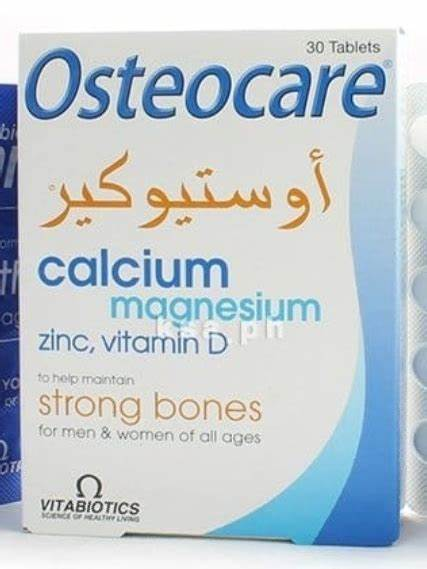Medicine: (12, 23, 407, 547)
